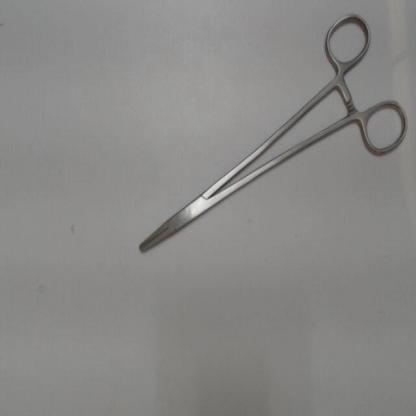8 Mayo Needle Holder: (129, 7, 413, 268)
